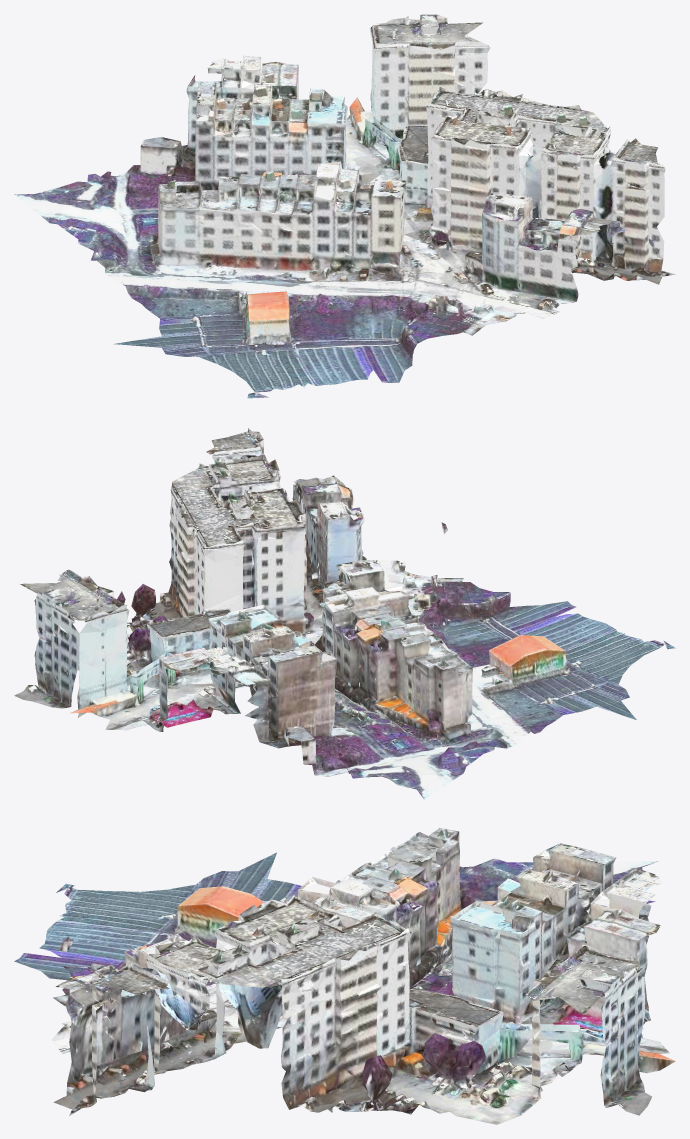
The model's file is Tile_+011_+018_L18_00003.glb.
3 renders of one model, top to bottom at view 1: azimuth 30°, elevation 25°; view 2: azimuth 150°, elevation 25°; view 3: azimuth 270°, elevation 25°, orthographic. The views are drawn at different scales.
Parts seen in each view (by area): view 1: rtc; view 2: rtc; view 3: rtc.
Part boxes in pixels (x1,y1,x2,y2): rtc: [14, 14, 675, 398]; rtc: [14, 427, 675, 799]; rtc: [14, 828, 675, 1124].
Bounding box in the file's own units: 123 × 33.15 × 117.
Materials: 1 (1 with a texture image).
